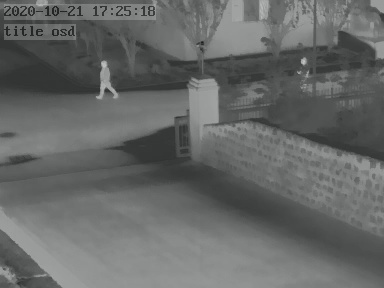person: (99, 59, 116, 99)
